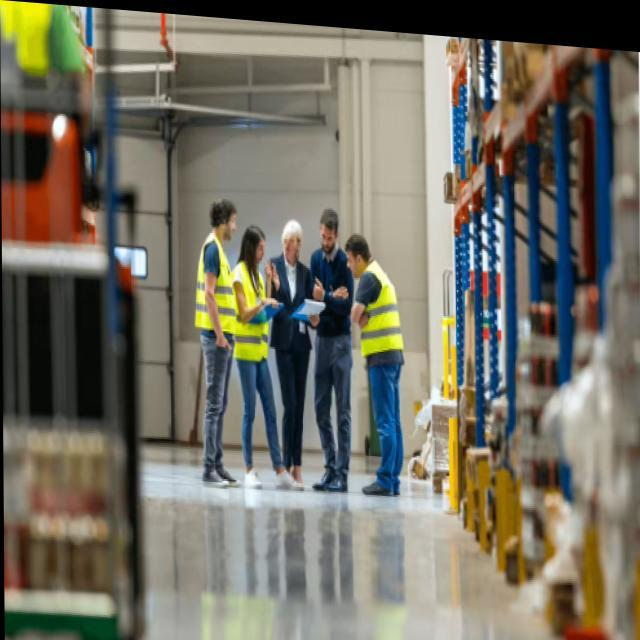boots: (363, 477, 401, 505)
vest: (352, 260, 410, 362), (194, 224, 237, 351), (230, 259, 271, 372)
